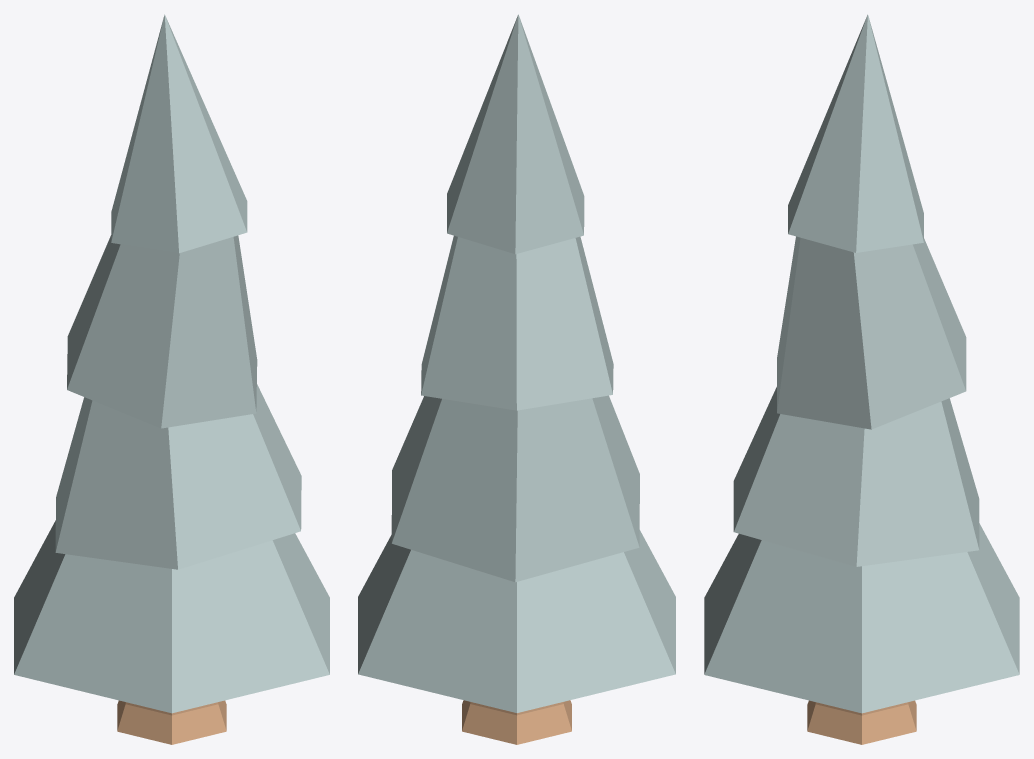
The model's file is treePineSnowed.glb.
3 renders of one model, left to right at view 1: azimuth 30°, elevation 25°; view 2: azimuth 150°, elevation 25°; view 3: azimuth 270°, elevation 25°, orthographic.
Visible parts, largest first — view 1: treePineSnowed; view 2: treePineSnowed; view 3: treePineSnowed.
Boxes of the visible parts, x1,y1,x2,y2 form: treePineSnowed: (14, 14, 329, 744); treePineSnowed: (358, 14, 675, 744); treePineSnowed: (704, 14, 1019, 744).
Size of the model in its own units: 0.7517 by 1.6 by 0.651.
